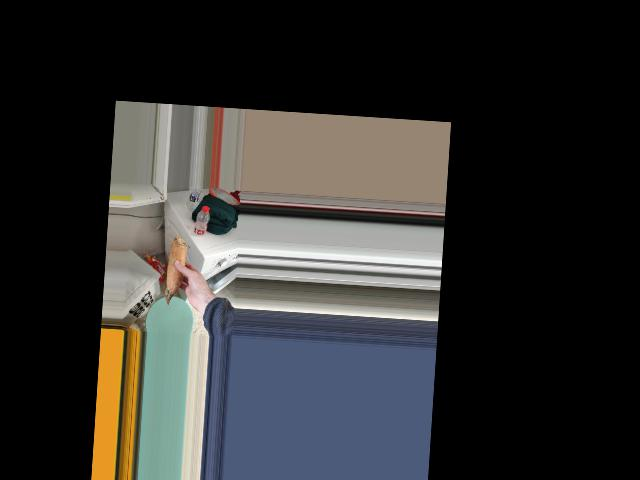sweet_potato: (165, 242, 191, 304)
